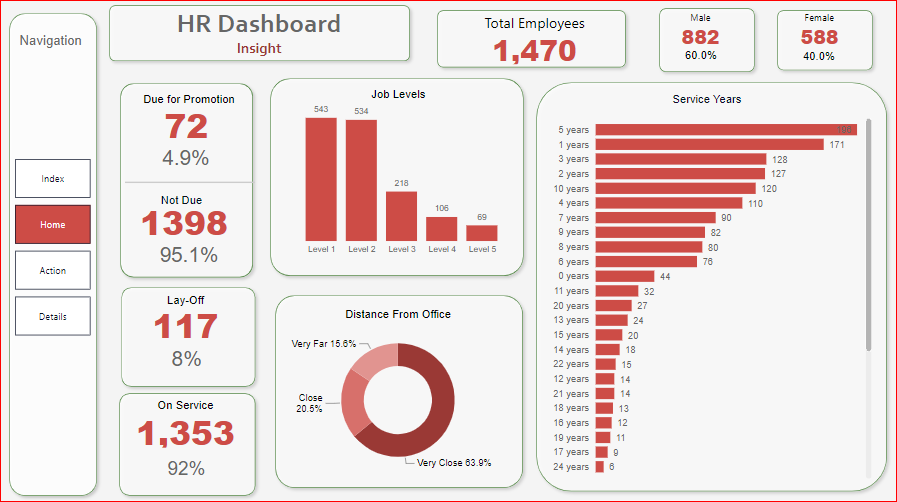

Layout of this report page (visuals, bound fields, positions):
{"tool":"powerbi","page":{"name":"Home","canvas":[1280,720],"ordinal":0},"visuals":[{"type":"shape","box":[9.9,18.4,141.7,701.6],"z":0},{"type":"card","title":"Female","fields":{"Values":["Measures (2).Female"]},"box":[1104.3,24.4,123.1,56.7],"z":0,"group":"g7"},{"type":"columnChart","fields":{"Category":["HR Analytics Data.Job Levels"],"Y":["Measures (2).Total Emp"]},"box":[410.4,143.1,328.6,234.6],"z":0,"group":"g8"},{"type":"card","title":"Lay-Off","fields":{"Values":["Measures (2).Lay-off"]},"box":[182.8,425.2,171.5,69.4],"z":0,"group":"g4"},{"type":"card","title":"On Service","fields":{"Values":["Measures (2).On Service"]},"box":[181.4,574,174.3,73.7],"z":0,"group":"g2"},{"type":"shape","box":[151.3,7.3,443.6,97.5],"z":1000,"group":"g5"},{"type":"card","title":"Male","fields":{"Values":["Measures (2).% Female"]},"box":[1089.1,66.9,153.4,46.8],"z":1000,"group":"g7"},{"type":"shape","box":[167.9,117.6,205.5,293.4],"z":1000},{"type":"textbox","box":[521.8,128.2,94.5,30.5],"z":1000,"group":"g8"},{"type":"card","title":"Male","fields":{"Values":["Measures (2).% Lay-off"]},"box":[228.2,493.2,83.6,46.8],"z":1000,"group":"g4"},{"type":"shape","box":[165.8,557,211.2,163],"z":1000,"group":"g6"},{"type":"card","title":"Male","fields":{"Values":["Measures (2).% On Service"]},"box":[226.8,649.1,86.5,46.8],"z":1000,"group":"g2"},{"type":"shape","box":[616.7,14.5,285.1,98.9],"z":2000,"group":"g3"},{"type":"shape","box":[168.6,406.8,208.3,158.7],"z":2000,"group":"g6"},{"type":"shape","box":[386.9,417.5,369.5,290.9],"z":2000},{"type":"group","id":"g1","title":"Group 3","box":[922.2,11.6,328.7,107.6],"z":3000},{"type":"shape","box":[930.6,11.6,153.4,107.7],"z":3000,"group":"g1"},{"type":"shape","box":[1097.5,14.4,153.4,103.5],"z":4000,"group":"g1"},{"type":"shape","box":[756.9,116.4,514.9,597.8],"z":4000},{"type":"group","id":"g2","title":"Group 1","box":[181.4,574,174.3,121.9],"z":4000,"group":"g6"},{"type":"group","id":"g3","title":"Group 4","box":[616.7,14.5,285.1,98.9],"z":5000},{"type":"group","id":"g4","title":"Group 1","box":[182.8,425.2,171.5,114.8],"z":5000,"group":"g6"},{"type":"shape","box":[379.9,110.5,376.7,298.2],"z":6000},{"type":"group","id":"g5","title":"Group 5","box":[151.3,7.3,443.6,97.5],"z":7000},{"type":"donutChart","title":"Distance From Office","fields":{"Category":["HR Analytics Data.Distance Status"],"Y":["Measures (2).Total Emp"]},"box":[401.5,445.1,337.5,244.4],"z":8000},{"type":"textbox","box":[191.5,12.9,363.3,91.8],"z":9000,"group":"g5"},{"type":"card","fields":{"Values":["Measures (2).Due for promotion"]},"box":[197,151.1,144.6,66.6],"z":9000},{"type":"card","title":"Total Employees","fields":{"Values":["Measures (2).Total Emp"]},"box":[638.9,26.3,248.4,78.5],"z":10000,"group":"g3"},{"type":"group","id":"g6","title":"Group 7","box":[165.8,406.8,211.2,313.2],"z":10000},{"type":"textbox","box":[165.8,134.1,215.4,32.6],"z":11000},{"type":"card","fields":{"Values":["Measures (2).% Due for promotion"]},"box":[185.7,204.9,167.2,51],"z":12000},{"type":"card","title":"Male","fields":{"Values":["Measures (2).Male"]},"box":[935.7,24.4,123.1,56.7],"z":13000,"group":"g1"},{"type":"card","fields":{"Values":["Measures (2).% Not Due"]},"box":[189.9,342.4,167.2,51],"z":13000},{"type":"card","title":"Male","fields":{"Values":["Measures (2).% Male"]},"box":[922.2,65.5,153.4,46.8],"z":14000,"group":"g1"},{"type":"card","fields":{"Values":["Measures (2).Not Due"]},"box":[188.5,288.5,155.9,66.6],"z":14000},{"type":"group","id":"g7","title":"Group 1","box":[1089.1,24.4,153.4,89.3],"z":15000,"group":"g1"},{"type":"textbox","box":[188.5,277.2,148.8,38.3],"z":15000},{"type":"shape","box":[182.8,257.4,184.3,18.4],"z":16000},{"type":"barChart","fields":{"Category":["HR Analytics Data.Service years"],"Y":["Measures (2).Total Emp"]},"box":[781.4,162.9,465.5,529.5],"z":17000},{"type":"textbox","box":[902.1,135.3,212.4,30.5],"z":18000},{"type":"group","id":"g8","title":"Group 2","box":[410.4,128.2,328.6,249.6],"z":19000},{"type":"pageNavigator","box":[27.6,234.2,107.6,251.6],"z":20000},{"type":"textbox","box":[10.2,49.5,135.3,33.5],"z":21000}]}

Visuals, with their boxes in screenshot pixels (x1, y1, x2, y2), scaled from the page's 1280x720 canvas onto the 897x502 screenshot:
shape: (left=7, top=13, right=106, bottom=501)
"Female" card: (left=774, top=17, right=860, bottom=57)
columnChart - HR Analytics Data.Job Levels x Measures (2).Total Emp: (left=288, top=100, right=518, bottom=263)
"Lay-Off" card: (left=128, top=296, right=248, bottom=345)
"On Service" card: (left=127, top=400, right=249, bottom=452)
shape: (left=106, top=5, right=417, bottom=73)
"Male" card: (left=763, top=47, right=871, bottom=79)
shape: (left=118, top=82, right=262, bottom=287)
textbox: (left=366, top=89, right=432, bottom=111)
"Male" card: (left=160, top=344, right=219, bottom=376)
shape: (left=116, top=388, right=264, bottom=501)
"Male" card: (left=159, top=453, right=220, bottom=485)
shape: (left=432, top=10, right=632, bottom=79)
shape: (left=118, top=284, right=264, bottom=394)
shape: (left=271, top=291, right=530, bottom=494)
"Group 3" group: (left=646, top=8, right=877, bottom=83)
shape: (left=652, top=8, right=760, bottom=83)
shape: (left=769, top=10, right=877, bottom=82)
shape: (left=530, top=81, right=891, bottom=498)
"Group 1" group: (left=127, top=400, right=249, bottom=485)
"Group 4" group: (left=432, top=10, right=632, bottom=79)
"Group 1" group: (left=128, top=296, right=248, bottom=376)
shape: (left=266, top=77, right=530, bottom=285)
"Group 5" group: (left=106, top=5, right=417, bottom=73)
"Distance From Office" donutChart: (left=281, top=310, right=518, bottom=481)
textbox: (left=134, top=9, right=389, bottom=73)
card - Measures (2).Due for promotion: (left=138, top=105, right=239, bottom=152)
"Total Employees" card: (left=448, top=18, right=622, bottom=73)
"Group 7" group: (left=116, top=284, right=264, bottom=501)
textbox: (left=116, top=93, right=267, bottom=116)
card - Measures (2).% Due for promotion: (left=130, top=143, right=247, bottom=178)
"Male" card: (left=656, top=17, right=742, bottom=57)
card - Measures (2).% Not Due: (left=133, top=239, right=250, bottom=274)
"Male" card: (left=646, top=46, right=754, bottom=78)
card - Measures (2).Not Due: (left=132, top=201, right=241, bottom=248)
"Group 1" group: (left=763, top=17, right=871, bottom=79)
textbox: (left=132, top=193, right=236, bottom=220)
shape: (left=128, top=179, right=257, bottom=192)
barChart - HR Analytics Data.Service years x Measures (2).Total Emp: (left=548, top=114, right=874, bottom=483)
textbox: (left=632, top=94, right=781, bottom=116)
"Group 2" group: (left=288, top=89, right=518, bottom=263)
pageNavigator: (left=19, top=163, right=95, bottom=339)
textbox: (left=7, top=35, right=102, bottom=58)
